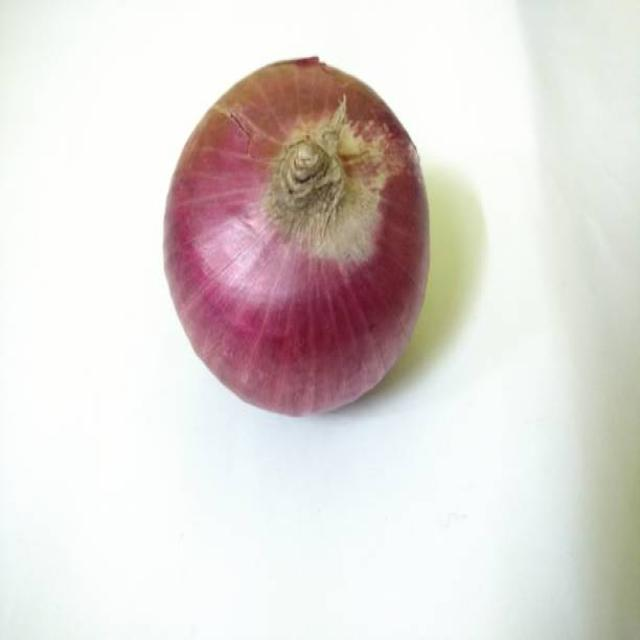onion: (160, 50, 431, 435)
